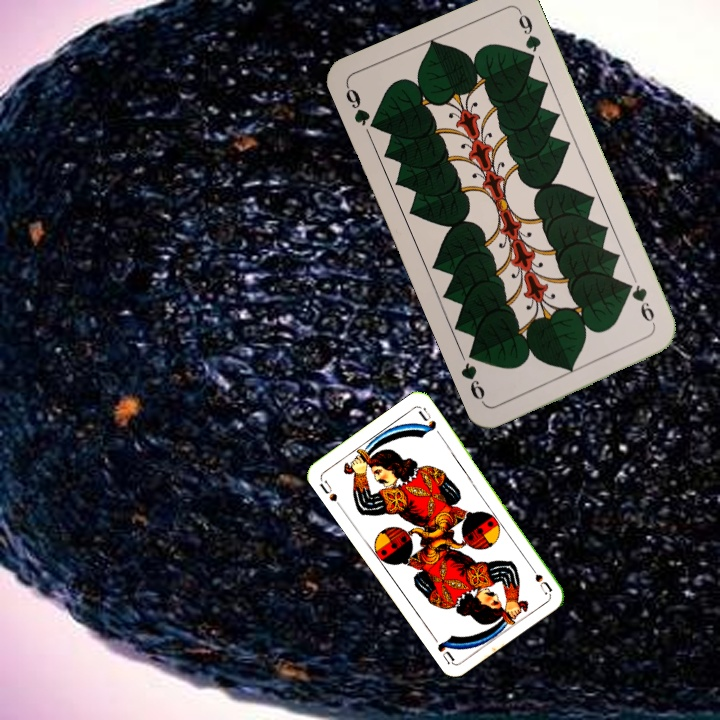G9: (341, 82, 383, 133), (621, 278, 659, 331)
SU: (524, 559, 555, 597), (315, 476, 345, 511)
